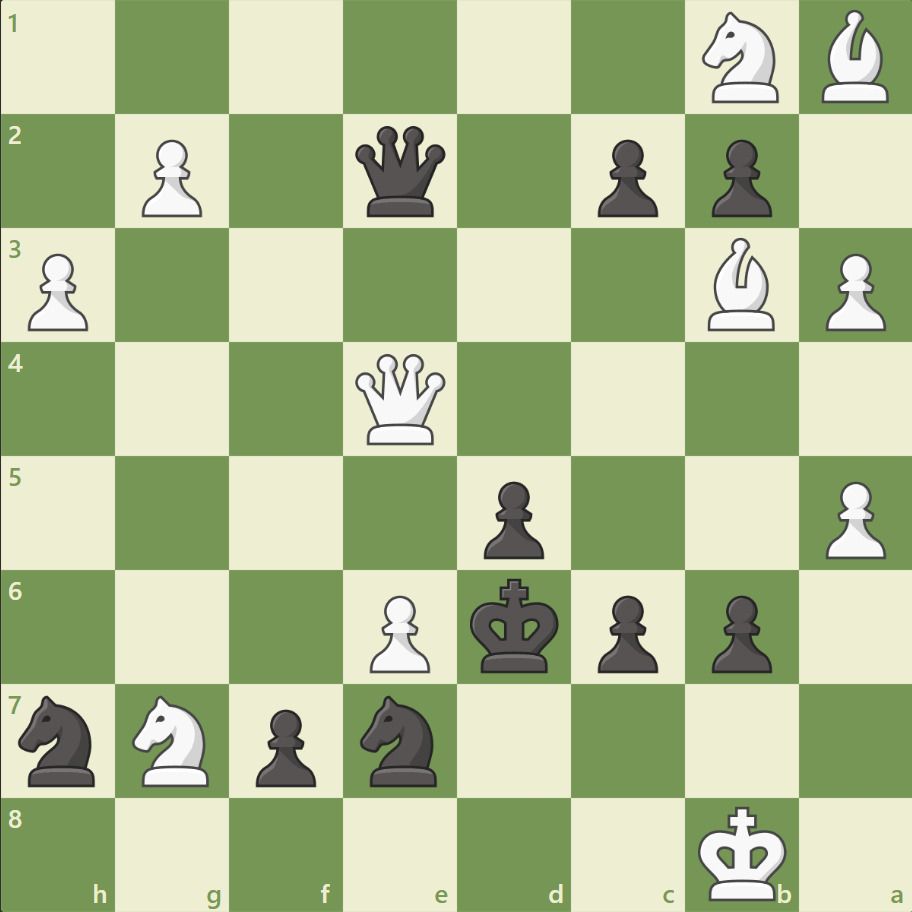B: (698, 233, 782, 336), (812, 6, 896, 109)
K: (692, 798, 792, 906)
N: (124, 688, 222, 791), (692, 7, 789, 110)
P: (20, 246, 95, 337), (133, 132, 208, 223), (361, 586, 435, 677), (815, 473, 889, 564), (815, 246, 889, 337)
Q: (351, 349, 450, 449)
k: (465, 571, 565, 679)
n: (351, 688, 449, 791), (11, 688, 108, 791)
p: (247, 700, 322, 791), (701, 586, 776, 677), (474, 473, 549, 564), (701, 132, 776, 223), (588, 586, 662, 677), (588, 132, 662, 223)
q: (351, 122, 450, 222)
